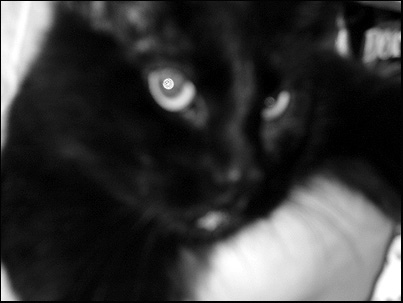cat: (1, 1, 403, 303)
